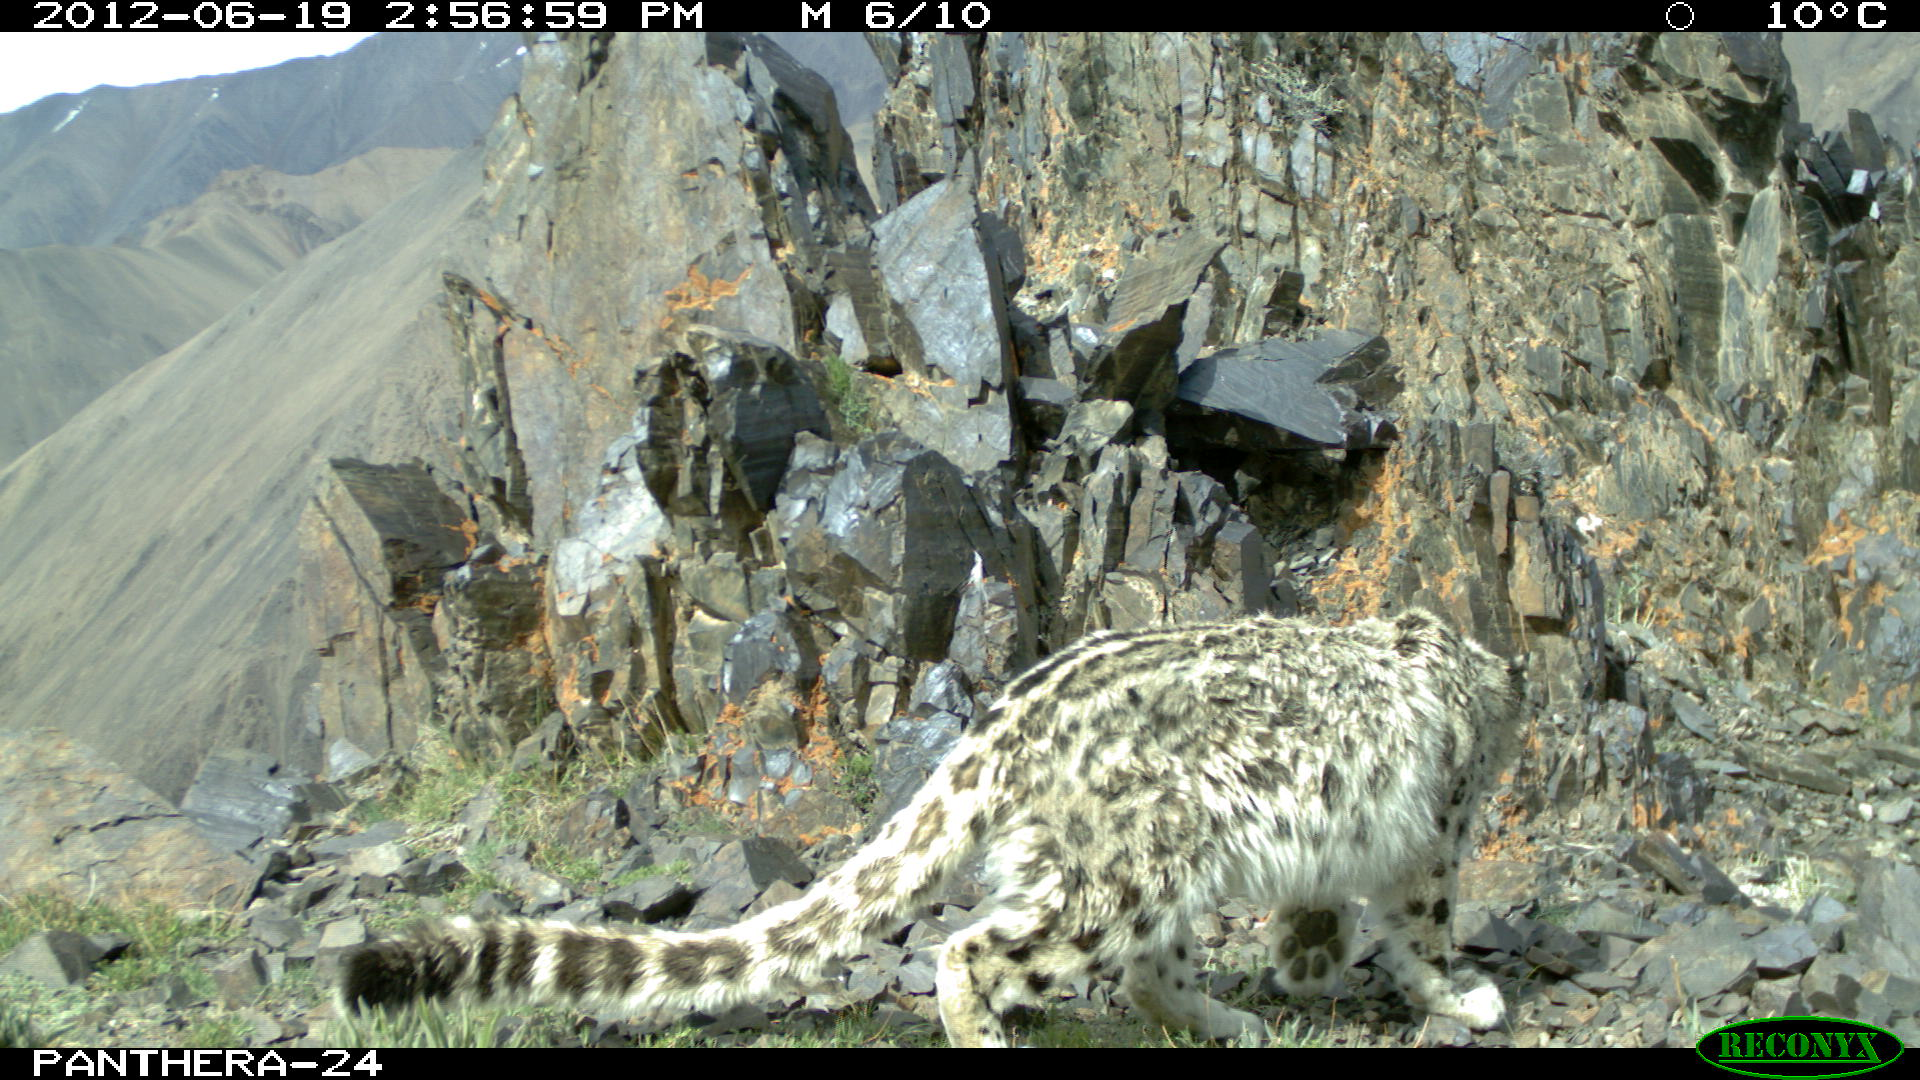Leopard: (327, 591, 1557, 1048)
